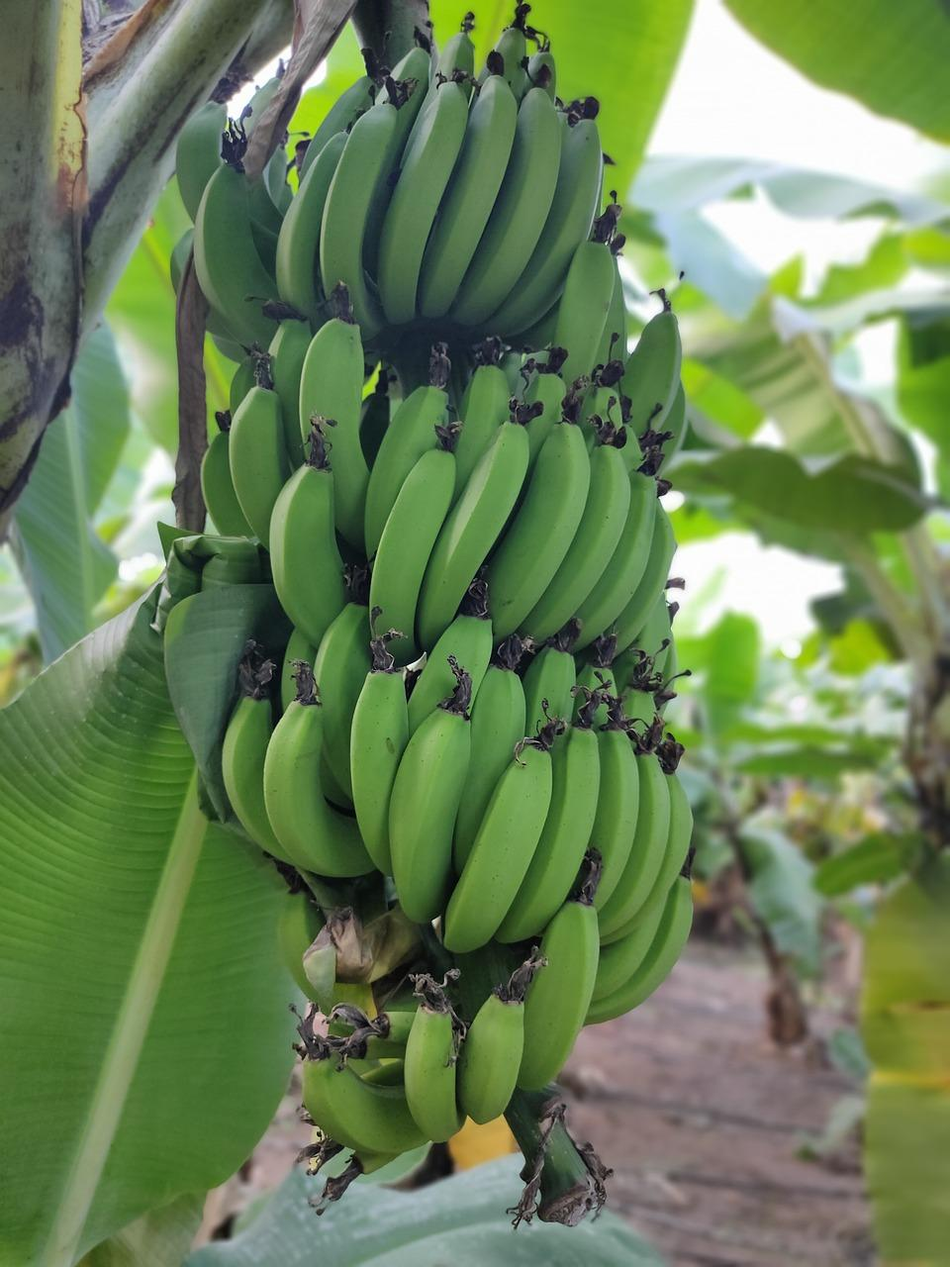banana: (161, 0, 734, 1178)
